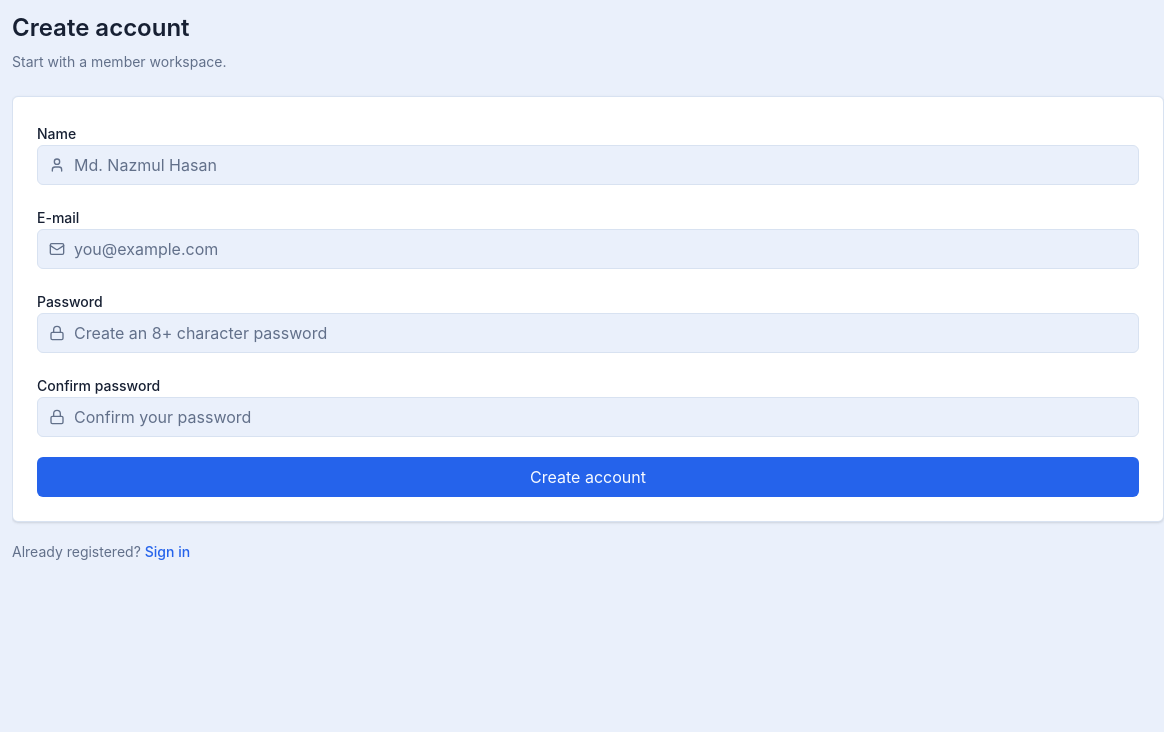
RegisterPage › renders placeholders and validates required registration fields
The image size is (1164, 732).
Expected: the field with placeholder "Md. Nazmul Hasan" is shown, [37, 145, 1139, 185]
Expected: the field with placeholder "you@example.com" is shown, [37, 229, 1139, 269]
Click the button "Create account" at (588, 477), box [37, 457, 1139, 497]
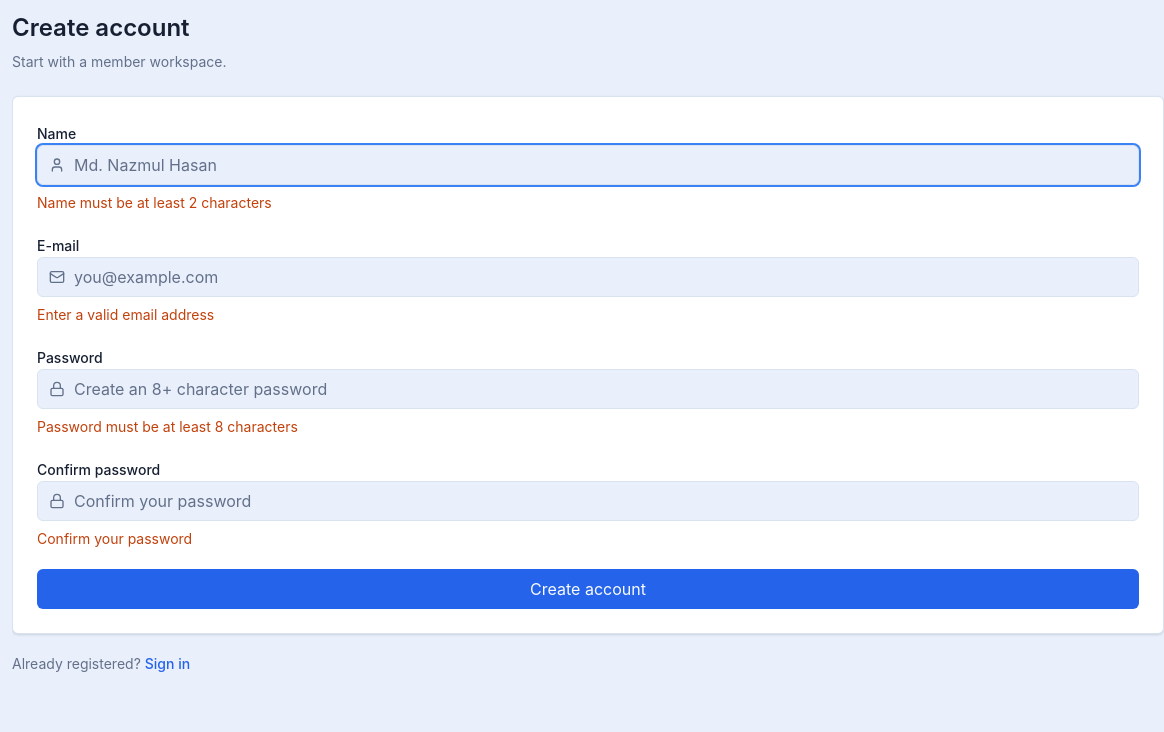
Expected: the text "Name must be at least 2 characters" is shown, [37, 194, 272, 211]
Expected: the text "Enter a valid email address" is shown, [37, 306, 214, 323]
Expected: the text "Password must be at least 8 characters" is shown, [37, 418, 298, 435]
